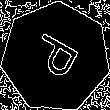P_SE: (25, 29, 86, 85)
